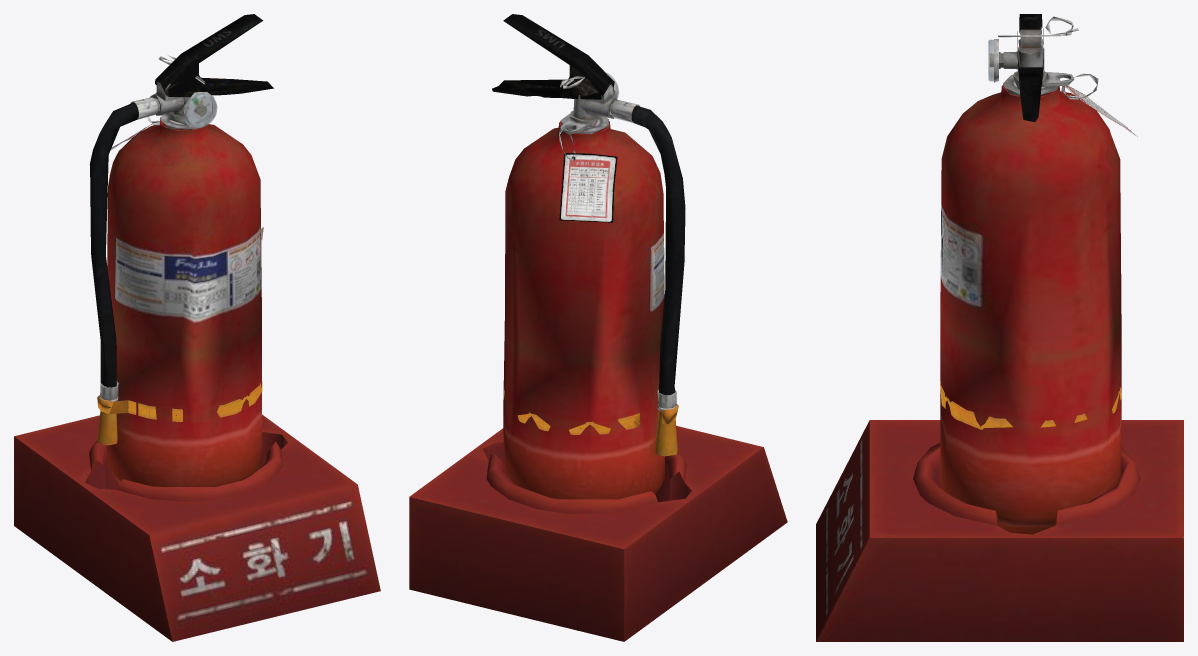
Rendered from ph-korean-fire-extinguisher-01-lite.glb.
3 renders of one model, left to right at view 1: azimuth 30°, elevation 25°; view 2: azimuth 150°, elevation 25°; view 3: azimuth 270°, elevation 25°, orthographic. The views are drawn at different scales.
Parts seen in each view (by area): view 1: korean_fire_extinguisher_01; view 2: korean_fire_extinguisher_01; view 3: korean_fire_extinguisher_01.
Boxes of the visible parts, x1,y1,x2,y2 form: korean_fire_extinguisher_01: [14, 14, 380, 641]; korean_fire_extinguisher_01: [409, 14, 787, 641]; korean_fire_extinguisher_01: [816, 14, 1183, 641].
Bounding box in the file's own units: 0.279 × 0.6581 × 0.3674.
3 materials, 3 textured.
